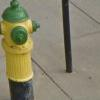Hydrant: (2, 0, 43, 95)
